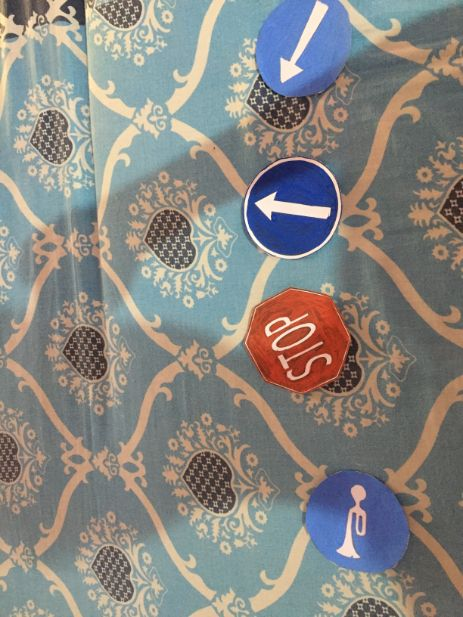blow-horn: (302, 465, 410, 573)
go-stright: (239, 159, 342, 262)
keep-left: (253, 1, 352, 99)
stop: (242, 285, 353, 396)
